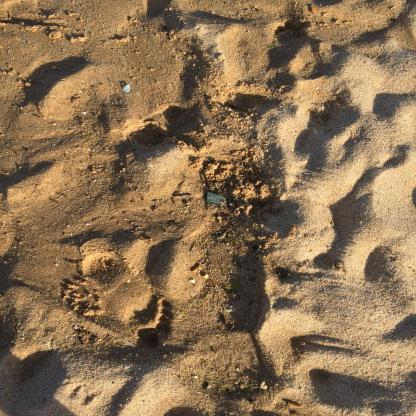trash: (204, 189, 229, 209)
